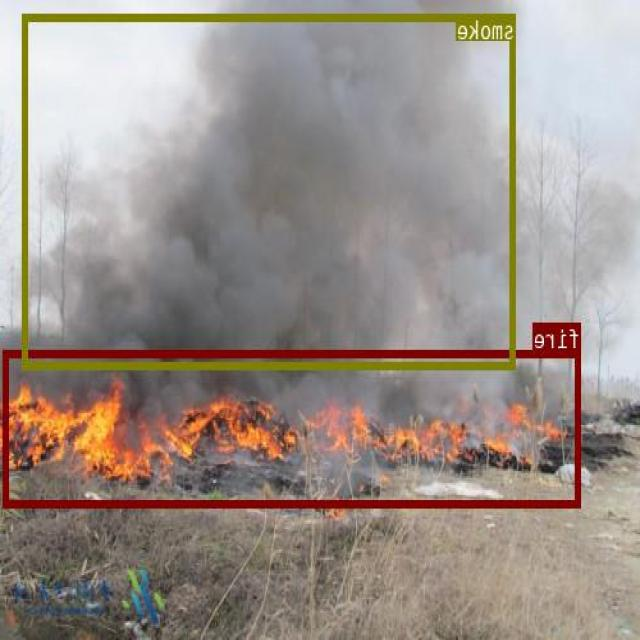fire: (4, 348, 582, 506)
smoke: (24, 13, 517, 368)
